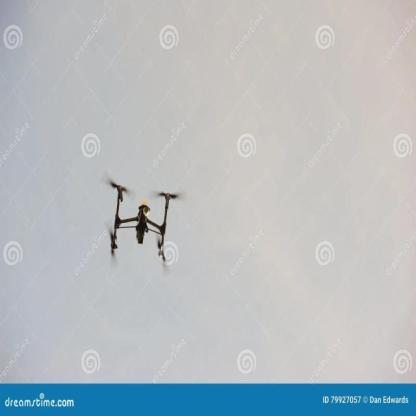drone: (104, 174, 185, 276)
